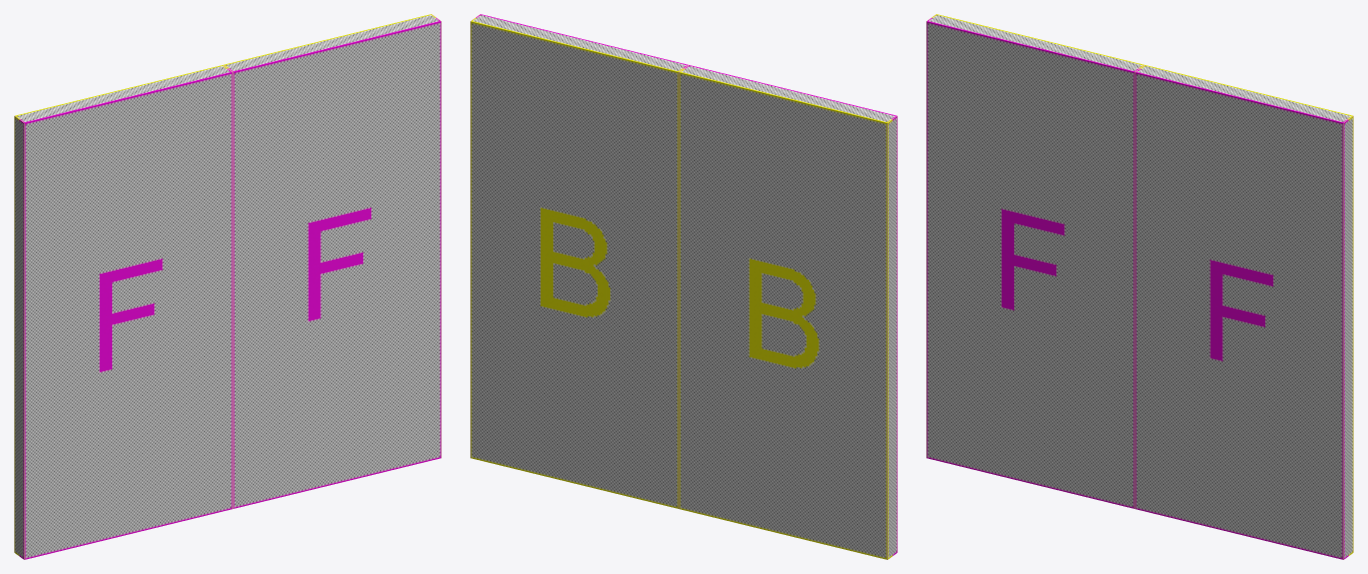
The model's file is Wall_1x6.fbx.
3 renders of one model, left to right at view 1: azimuth 30°, elevation 25°; view 2: azimuth 150°, elevation 25°; view 3: azimuth 330°, elevation 25°, orthographic.
Visible parts, largest first — view 1: Wall_1x6; view 2: Wall_1x6; view 3: Wall_1x6.
Boxes of the visible parts, x1,y1,x2,y2 form: Wall_1x6: [14, 14, 441, 559]; Wall_1x6: [470, 14, 897, 559]; Wall_1x6: [926, 14, 1353, 559].
Bounding box in the file's own units: 600 × 600 × 25.
